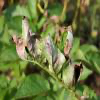Potato leaf late blight: (41, 38, 67, 80), (22, 15, 43, 67), (12, 33, 38, 65), (62, 54, 75, 94), (60, 25, 74, 55)
